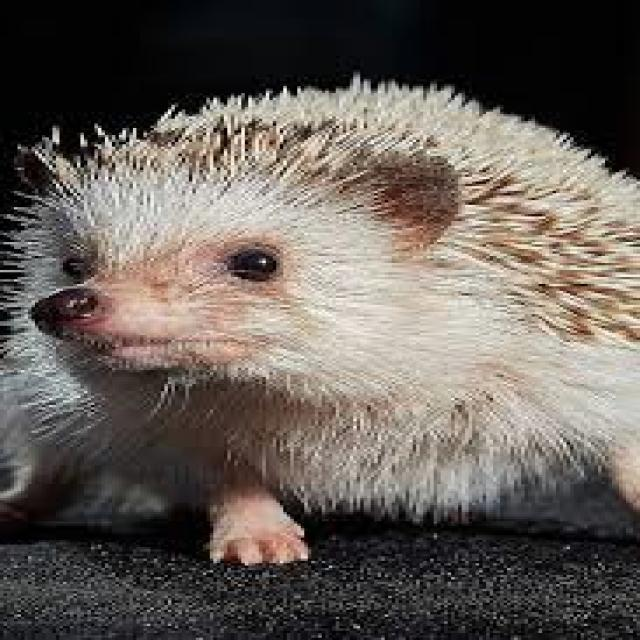hedgehog: (0, 79, 637, 563)
